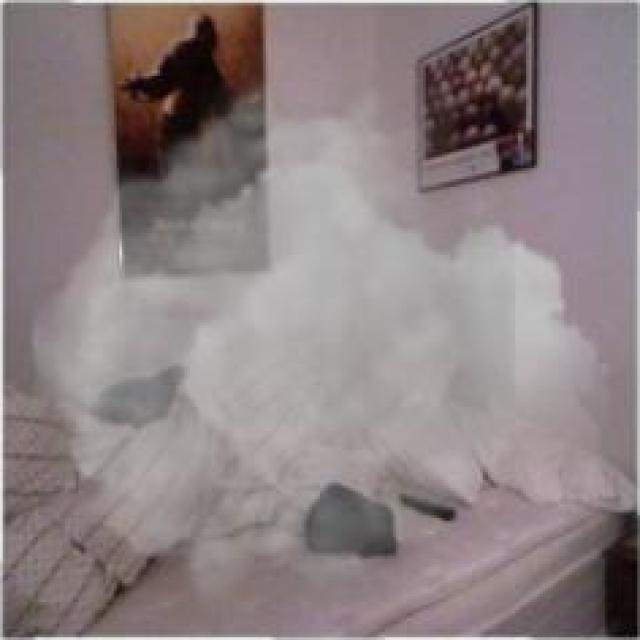fire: (32, 58, 610, 625)
